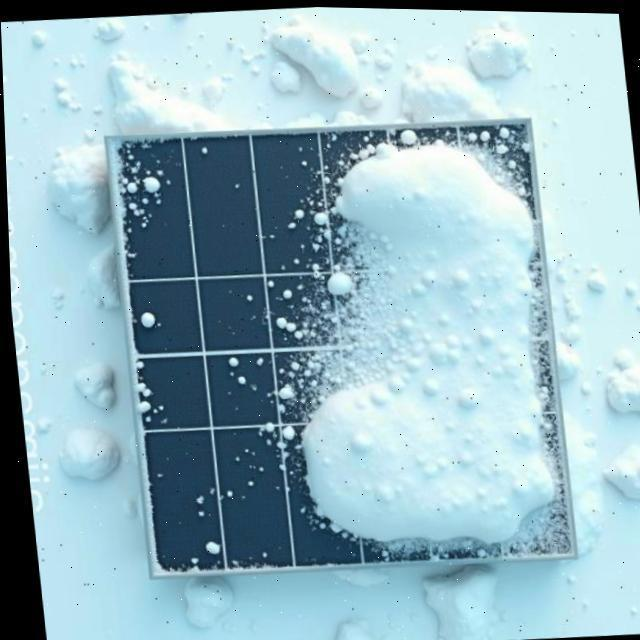Anomaly Solar Panel: (112, 119, 569, 576)
Snow: (210, 120, 572, 569), (114, 139, 183, 262), (130, 357, 150, 417), (197, 538, 220, 557), (138, 310, 155, 330)
